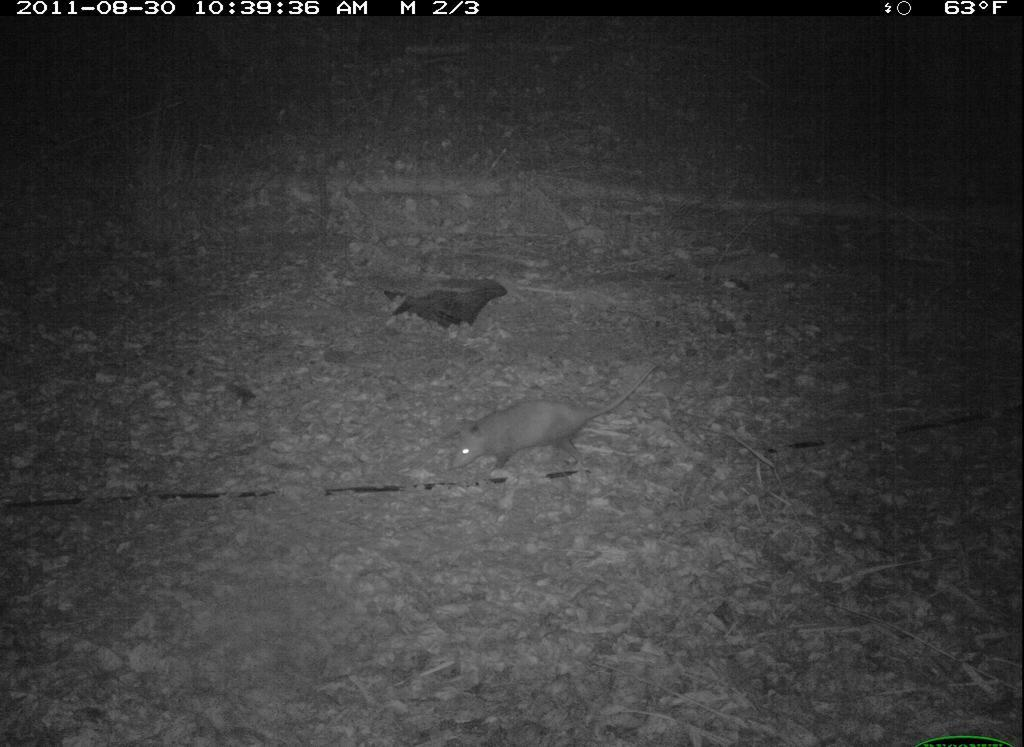opossum: (434, 374, 652, 497)
